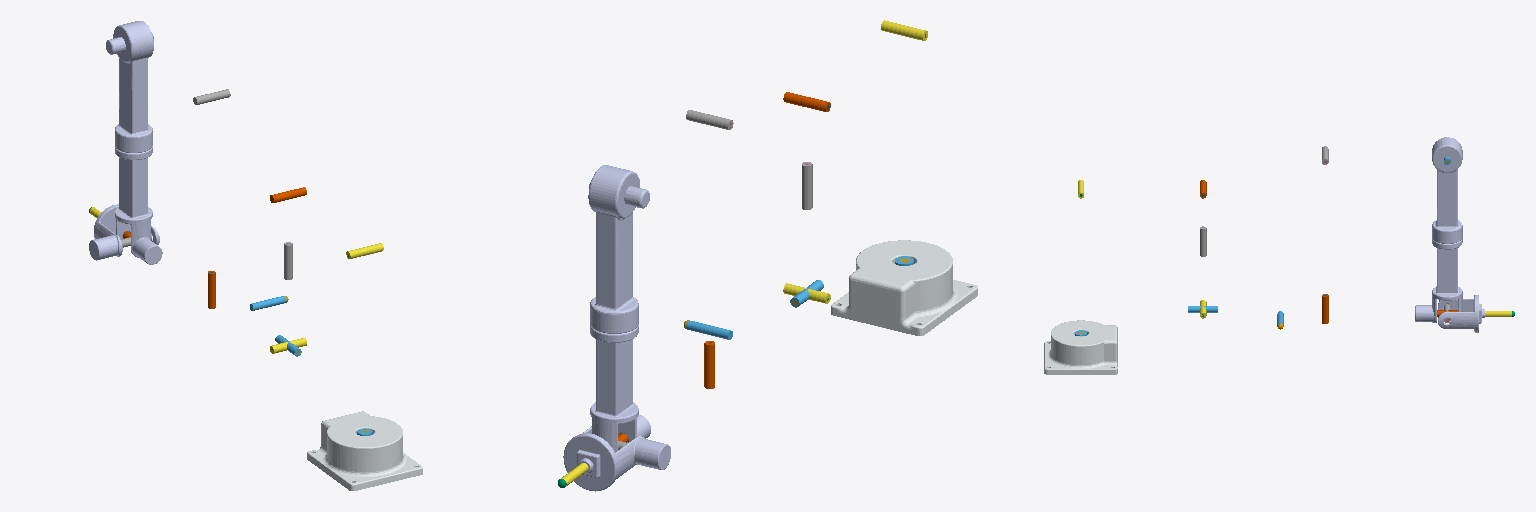
--- Render facts (derived) ---
Views: 3 orthographic renders of the robot side by side, from view 1: azimuth 30°, elevation 25°; view 2: azimuth 150°, elevation 25°; view 3: azimuth 270°, elevation 25°.
Model twelvedof_new with 44 links and 43 joints (12 continuous, 31 fixed), rooted at world, posed every joint at zero.
Links seen in each view (by area): view 1: base_link, link9, link10, link12; view 2: base_link, link9, link10, link12; view 3: base_link, link9, link10, link12.
Link boxes in pixels (bbox=[...]): base_link: bbox=[307, 411, 422, 490]; link9: bbox=[106, 21, 153, 152]; link10: bbox=[115, 146, 162, 264]; link12: bbox=[89, 204, 159, 260]; base_link: bbox=[831, 240, 977, 335]; link9: bbox=[588, 165, 649, 333]; link10: bbox=[590, 325, 650, 452]; link12: bbox=[563, 426, 670, 491]; base_link: bbox=[1044, 320, 1117, 374]; link9: bbox=[1432, 137, 1462, 243]; link10: bbox=[1415, 238, 1462, 322]; link12: bbox=[1438, 295, 1484, 332].
Size in the robot's own frame: 0.27 by 1.54 by 0.791 metres.
Meshes: 13 distinct files referenced, 4 mesh visuals loaded (4 binary STL); not drawn: 9 (reference not matched to a file when rendering).

URDF robot description (twelvedof_new):
<?xml version="1.0" encoding="utf-8"?>
<!-- This URDF was automatically created by SolidWorks to URDF Exporter! Originally created by Stephen Brawner ([email redacted]) 
     Commit Version: 1.6.0-1-g15f4949  Build Version: 1.6.7594.29634
     For more information, please see http://wiki.ros.org/sw_urdf_exporter -->
<robot name="twelvedof_new">
  
  <link name="world"/>
    
  <joint name="worldjoint" type="fixed">
    <origin xyz="0 0 0" rpy="0 0 1.5708" />
    <parent link="world" />
    <child link="base_link" />
    <dynamics damping="5.0"/>
  </joint>

<!-- FIRST HALF OF ARM -->
  
  <link name="base_link">
    <inertial>
      <origin xyz="0.00821319552843038 0.0455728269319283 -4.38949845875623E-09" rpy="0 0 0" />
      <mass value="10" />
      <inertia
        ixx="0.0143561878212777"
        ixy="-0.000435034350132057"
        ixz="1.30220493170942E-09"
        iyy="0.0253036434758205"
        iyz="2.05181848298011E-10"
        izz="0.017604652680288" />
    </inertial>
    <visual>
      <origin xyz="0 0 0" rpy="0 0 0" />
      <geometry>
        <mesh filename="package://project/meshes/base_link.STL" />
      </geometry>
      <material name="">
        <color rgba="0.898039215686275 0.92156862745098 0.929411764705882 1" />
      </material>
    </visual>
    <!--<collision>
      <origin xyz="0 0 0" rpy="0 0 0" />
      <geometry>
        <mesh filename="package://project/meshes/base_link.STL" />
      </geometry>
    </collision>-->
  </link>
  
  <joint name="theta1" type="continuous">
    <origin xyz="0 0 0.0499999999999999" rpy="1.5707963267949 0 -3.14159265358979" />
    <parent link="base_link" />
    <child link="link1" />
    <axis xyz="0 1 0" />
    <dynamics damping="5.0"/>
  </joint>  
  
  <link name="link1">
    <inertial>
      <origin xyz="-3.53356132704072E-08 0.354939281214782 0.00987047993841249" rpy="0 0 0" />
      <mass value="0.3" />
      <inertia
        ixx="0.280533282193697"
        ixy="2.88502865128486E-08"
        ixz="5.12746353903742E-09"
        iyy="0.0214809674041822"
        iyz="-0.0162186945928484"
        izz="0.281062502247758" />
    </inertial>
    <visual>
      <origin xyz="0 0 0" rpy="0 0 0" />
      <geometry>
        <mesh filename="package://project/meshes/link1.STL" />
      </geometry>
      <material name="">
        <color rgba="0.792156862745098 0.819607843137255 0.933333333333333 1" />
      </material>
    </visual>
    <!--<collision>
      <origin xyz="0 0 0" rpy="0 0 0" />
      <geometry>
        <mesh filename="package://project/meshes/link1.STL" />
      </geometry>
    </collision>-->
  </link>
  
  <joint name="theta2" type="continuous">
    <origin xyz="0 0.57 0" rpy="0 -1.5707963267949 0" />
    <parent link="link1" />
    <child link="link2" />
    <axis xyz="1 0 0" />
    <dynamics damping="4.0"/>
  </joint>
  
  <link name="link2">
    <inertial>
      <origin xyz="-0.0990439236457107 -1.71025542616832E-08 0.194379212104546" rpy="0 0 0" />
      <mass value="0.3" />
      <inertia
        ixx="0.128935545829528"
        ixy="-3.59276704863955E-09"
        ixz="0.00824538218148109"
        iyy="0.12959303076696"
        iyz="3.7662632051646E-08"
        izz="0.00894193356578435" />
    </inertial>
    <visual>
      <origin xyz="0 0 0" rpy="0 0 0" />
      <geometry>
        <mesh filename="package://project/meshes/link2.STL" />
      </geometry>
      <material name="">
        <color rgba="0.792156862745098 0.819607843137255 0.933333333333333 1" />
      </material>
    </visual>
    <!--<collision>
      <origin xyz="0 0 0" rpy="0 0 0" />
      <geometry>
        <mesh filename="package://project/meshes/link2.STL" />
      </geometry>
    </collision>-->
  </link>
    
  <joint name="theta3" type="continuous">
    <origin xyz="0 0 0.4" rpy="3.14159265358979 0 3.14159265358979" />
    <parent link="link2" />
    <child link="link3" />
    <axis xyz="1 0 0" />
    <dynamics damping="4.0"/>
  </joint>
  
  
  <link name="link3">
    <inertial>
      <origin xyz="0.00160037543312781 -0.085257338513779 -2.42632615110594E-07" rpy="0 0 0" />
      <mass value="0.3" />
      <inertia
        ixx="0.0152262508313679"
        ixy="-0.000252854197484628"
        ixz="-7.59437820571953E-09"
        iyy="0.00238432715240219"
        iyz="-6.63655998102174E-09"
        izz="0.0150750345051429" />
    </inertial>
    <visual>
      <origin xyz="0 0 0" rpy="0 0 0" />
      <geometry>
        <mesh filename="package://project/meshes/link3.STL" />
      </geometry>
      <material name="">
        <color rgba="0.792156862745098 0.819607843137255 0.933333333333333 1" />
      </material>
    </visual>
    <!--<collision>
      <origin xyz="0 0 0" rpy="0 0 0" />
      <geometry>
        <mesh filename="package://project/meshes/link3.STL" />
      </geometry>
    </collision>-->
  </link>
  
  <joint name="theta4" type="continuous">
    <origin xyz="0 -0.19 0" rpy="3.14159265358979 0 3.14159265358979" />
    <parent link="link3" />
    <child link="link4" />
    <axis xyz="0 1 0" />
    <dynamics damping="3.0"/>
  </joint>
  
  <link name="link4">
    <inertial>
      <origin xyz="-2.42302114083718E-05 -0.132883357266087 0.0106425170632316" rpy="0 3.14159265358979 0" />
      <mass value="0.2" />
      <inertia
        ixx="0.00652454443000916"
        ixy="-2.63113923987127E-06"
        ixz="1.4312330638641E-06"
        iyy="0.00162842387868455"
        iyz="0.00113452921322352"
        izz="0.00559173664508866" />
    </inertial>
    <visual>
      <origin xyz="0 0 0" rpy="0 3.14159265358979 0" />
      <geometry>
        <mesh filename="package://project/meshes/link4.STL" />
      </geometry>
      <material name="">
        <color rgba="0.792156862745098 0.819607843137255 0.933333333333333 1" />
      </material>
    </visual>
    <!--<collision>
      <origin xyz="0 0 0" rpy="0 3.14159265358979 0" />
      <geometry>
        <mesh filename="package://project/meshes/link4.STL" />
      </geometry>
    </collision>-->
  </link>
  
  <joint name="theta5" type="continuous">
    <origin xyz="0 -0.244 0" rpy="-1.5707963267949 0 3.14159265358979" />
    <parent link="link4" />
    <child link="link5" />
    <axis xyz="0 1 0" />
    <dynamics damping="3.0"/>
  </joint>
  
  <link name="link5">
    <inertial>
      <origin xyz="-8.59274472396303E-06 2.99480007459607E-09 -2.77555756156289E-17" rpy="0 0 0" />
      <mass
        value="0.2" />
      <inertia
        ixx="0.000268508912730322"
        ixy="-1.05404001827445E-14"
        ixz="2.8134907313249E-12"
        iyy="0.000445501225998283"
        iyz="-4.09234992736264E-12"
        izz="0.000491869576064115" />
    </inertial>
    <visual>
      <origin xyz="0 0 0" rpy="0 0 0" />
      <geometry>
        <mesh filename="package://project/meshes/link5.STL" />
      </geometry>
      <material name="">
        <color rgba="0.792156862745098 0.819607843137255 0.933333333333333 1" />
      </material>
    </visual>
    <!--<collision>
      <origin xyz="0 0 0" rpy="0 0 0" />
      <geometry>
        <mesh filename="package://project/meshes/link5.STL" />
      </geometry>
    </collision>-->
  </link>

  <joint name="theta6" type="continuous">
    <origin xyz="0 0 0" rpy="3.1416 -1.5708 0" />
    <parent link="link5" />
    <child link="link6" />
    <axis xyz="0 0 1" />
    <dynamics damping="3.0"/>
  </joint>

  <link name="link6">
    <inertial>
      <origin xyz="0.00520227831116674 0.273936626876202 -0.00509011096195712" rpy="0 0 0" />
      <mass
        value="0.2" />
      <inertia
        ixx="0.0522030439082721"
        ixy="-0.00158209475866237"
        ixz="-6.38836647121218E-05"
        iyy="0.00450482103345596"
        iyz="-0.00340305922390723"
        izz="0.0501774844868825" />
    </inertial>
    <visual>
      <origin xyz="0 0 0" rpy="0 0 0" />
      <geometry>
        <mesh filename="package://project/meshes/link6.STL" />
      </geometry>
      <material name="">
        <color rgba="0.792156862745098 0.819607843137255 0.933333333333333 1" />
      </material>
    </visual>
    <!--<collision>
      <origin xyz="0 0 0" rpy="0 0 0" />
      <geometry>
        <mesh filename="package://project/meshes/link6.STL" />
      </geometry>
    </collision>-->
  </link>

  <joint name="final1" type="fixed">
    <parent link="link6"/>
    <child  link="tip_elbow"/>
    <origin xyz="0 0.2535 0.135" rpy="1.5708 0 -1.5708"/>
  </joint>

  <link name="tip_elbow"/>
  
 
 <!-- SECOND HALF OF ARM -->

  <joint name="theta7" type="continuous">
    <origin xyz="0 0.4 0" rpy="1.5707963267949 -1.5707963267949 0" />
    <parent link="link6" />
    <child link="link7" />
    <axis xyz="0 1 0" />
    <dynamics damping="2.0"/>
  </joint>

  <link name="link7">
    <inertial>
      <origin xyz="0.00477228657845705 0.337400616275791 6.70715527562038E-09" rpy="0 0 0" />
      <mass
        value="0.2" />
      <inertia
        ixx="0.120977117963601"
        ixy="-0.00358173551662174"
        ixz="-1.92392938248504E-09"
        iyy="0.00427523422420143"
        iyz="-2.98092198286552E-09"
        izz="0.120860768990603" />
    </inertial>
    <visual>
      <origin xyz="0 0 0" rpy="0 0 0" />
      <geometry>
        <mesh filename="package://project/meshes/link7.STL" />
      </geometry>
      <material name="">
        <color rgba="0.792156862745098 0.819607843137255 0.933333333333333 1" />
      </material>
    </visual>
    <!--<collision>
      <origin xyz="0 0 0" rpy="0 0 0" />
      <geometry>
        <mesh filename="package://project/meshes/link7.STL" />
      </geometry>
    </collision>-->
  </link>

  <joint name="theta8" type="continuous">
    <origin xyz="0 0.555 0" rpy="0 0 3.14159265358979" />
    <parent link="link7" />
    <child link="link8" />
    <axis xyz="1 0 0" />
    <dynamics damping="1.0"/>
  </joint>
  
  <link name="link8">
    <inertial>
      <origin xyz="0.0878747586523721 -1.43544612862812E-08 -0.224736317123778" rpy="0 0 0" />
      <mass
        value="0.1" />
      <inertia
        ixx="0.0796551330078775"
        ixy="5.6504092407821E-09"
        ixz="0.00748044758508915"
        iyy="0.0813191685089296"
        iyz="5.4244447681561E-09"
        izz="0.00490675543598511" />
    </inertial>
    <visual>
      <origin xyz="0 0 0" rpy="0 0 0" />
      <geometry>
        <mesh filename="package://project/meshes/link8.STL" />
      </geometry>
      <material name="">
        <color rgba="0.792156862745098 0.819607843137255 0.933333333333333 1" />
      </material>
    </visual>
    <!--<collision>
      <origin xyz="0 0 0" rpy="0 0 0" />
      <geometry>
        <mesh filename="package://project/meshes/link8.STL" />
      </geometry>
    </collision>-->
  </link>

  <joint name="theta9" type="continuous">
    <origin xyz="0 0 -0.4" rpy="-3.14159263868864 0 0" />
    <parent link="link8" />
    <child link="link9" />
    <axis xyz="1 0 0" />
    <dynamics damping="2.0"/>
  </joint>


  <link name="link9">
    <inertial>
      <origin xyz="0.00664825369162243 -0.120416195839299 -2.48880200892643E-07" rpy="0 0 0" />
      <mass
        value="0.1" />
      <inertia
        ixx="0.0114050795265076"
        ixy="-0.0002365697800322"
        ixz="-3.38034585685076E-09"
        iyy="0.00148310827639032"
        iyz="-3.64333100183754E-09"
        izz="0.0113333864819022" />
    </inertial>
    <visual>
      <origin xyz="0 0 0" rpy="0 0 0" />
      <geometry>
        <mesh filename="package://project/meshes/link9.STL" />
      </geometry>
      <material name="">
        <color rgba="0.792156862745098 0.819607843137255 0.933333333333333 1" />
      </material>
    </visual>
    <!--<collision>
      <origin xyz="0 0 0" rpy="0 0 0" />
      <geometry>
        <mesh filename="package://project/meshes/link9.STL" />
      </geometry>
    </collision>-->
  </link>

  <joint name="theta10" type="continuous">
    <origin xyz="0.005 -0.26 0" rpy="3.14159265358979 0 3.14159265358979" />
    <parent link="link9" />
    <child link="link10" />
    <axis xyz="0 1 0" />
    <dynamics damping="1.0"/>
  </joint>

  <link name="link10">
    <inertial>
      <origin xyz="-1.98334295971603E-05 -0.170343324915273 0.00871952863819403" rpy="0 0 0" />
      <mass
        value="0.1" />
      <inertia
        ixx="0.00624074124214675"
        ixy="-2.56275777992662E-06"
        ixz="1.42191262724024E-06"
        iyy="0.00153442214771151"
        iyz="0.00110450946529512"
        izz="0.00531178670708837" />
    </inertial>
    <visual>
      <origin xyz="0 0 0" rpy="0 0 0" />
      <geometry>
        <mesh filename="package://project/meshes/link10.STL" />
      </geometry>
      <material name="">
        <color rgba="0.792156862745098 0.819607843137255 0.933333333333333 1" />
      </material>
    </visual>
    <!--<collision>
      <origin xyz="0 0 0" rpy="0 0 0" />
      <geometry>
        <mesh filename="package://project/meshes/link10.STL" />
      </geometry>
    </collision>-->
  </link>

  <joint name="theta11" type="continuous">
    <origin xyz="0 -0.314 0" rpy="-1.5707963267949 0 3.14159265358979" />
    <parent link="link10" />
    <child link="link11" />
    <axis xyz="0 1 0" />
    <dynamics damping="1.0"/>
  </joint>

  <link name="link11">
    <inertial>
      <origin xyz="-8.5927447239665E-06 -2.99480018561837E-09 0" rpy="0 0 0" />
      <mass
        value="0.1" />
      <inertia
        ixx="0.000268508912730321"
        ixy="1.05404015773174E-14"
        ixz="-2.81349071030043E-12"
        iyy="0.000445501225998283"
        iyz="-4.09234984570201E-12"
        izz="0.000491869576064114" />
    </inertial>
    <visual>
      <origin xyz="0 0 0" rpy="0 0 0" />
      <geometry>
        <mesh filename="package://project/meshes/link11.STL" />
      </geometry>
      <material name="">
        <color rgba="0.792156862745098 0.819607843137255 0.933333333333333 1" />
      </material>
    </visual>
    <!--<collision>
      <origin xyz="0 0 0" rpy="0 0 0" />
      <geometry>
        <mesh filename="package://project/meshes/link11.STL" />
      </geometry>
    </collision>-->
  </link>

  <joint name="theta12" type="continuous">
    <origin xyz="0 0 0" rpy="0 1.5707963267949 0" />
    <parent link="link11" />
    <child link="link12" />
    <axis xyz="0 0 1" />
    <dynamics damping="1.0"/>
  </joint>

  <link name="link12">
    <inertial>
      <origin xyz="-2.44598371168525E-07 0.0871817473729875 0.0178255025763769" rpy="0 0 0" />
      <mass
        value="0.1" />
      <inertia
        ixx="0.00449686744365017"
        ixy="-5.41238637157819E-09"
        ixz="3.66408930129254E-09"
        iyy="0.00184883163621398"
        iyz="0.00108407821056809"
        izz="0.00322066196867968" />
    </inertial>
    <visual>
      <origin xyz="0 0 0" rpy="0 0 0" />
      <geometry>
        <mesh filename="package://project/meshes/link12.STL" />
      </geometry>
      <material name="">
        <color rgba="0.792156862745098 0.819607843137255 0.933333333333333 1" />
      </material>
    </visual>
    <!--<collision>
      <origin xyz="0 0 0" rpy="0 0 0" />
      <geometry>
        <mesh filename="package://project/meshes/link12.STL" />
      </geometry>
    </collision>-->
  </link>

  <joint name="final2" type="fixed">
    <parent link="link12"/>
    <child  link="tip_full"/>
    <origin xyz="0 0.2135 0" rpy="0 -1.5708 0"/>
  </joint>

  <link name="tip_full"/>













  <!-- *************************************************** -->
  <!-- ****** Building Blocks (Visual AND Inertial) ****** -->
  <!-- *************************************************** -->

  <!-- *** base_link-Fixed: Mount 1, Motor 1 *** -->

  <joint name="attach-mount1" type="fixed">
    <parent link="base_link"/>
    <child  link="mount1"/>
  </joint>
  <link name="mount1">
    <visual>
      <origin xyz="0 0 0.05" rpy="0 0 0"/>
      <geometry>
  <cylinder length="0.1" radius="0.011"/>
      </geometry>
      <material name="black"/>
    </visual>
    <collision>
      <origin xyz="0 0 0.05" rpy="0 0 0"/>
      <geometry>
  <cylinder length="0.1" radius="0.011"/>
      </geometry>
    </collision>
    <inertial>
      <origin xyz="0 0 0.05" rpy="0 0 0"/>
      <mass value="0.2"/>
      <inertia
        ixx="0.000687" ixy="0.0" ixz="0.0"
        iyy="0.000687" iyz="0.0"
        izz="1.000040"/>
    </inertial>
  </link>

  <joint name="attach-motor1" type="fixed">
    <parent link="base_link"/>
    <child  link="motor1"/>
  </joint>
  <link name="motor1">
    <visual>
      <origin xyz="0 0 0.05" rpy="0 0 0"/>
      <geometry>
  <cylinder length="0.1" radius="0.02"/>
      </geometry>
      <material name="gray"/>
    </visual>
    <collision>
      <origin xyz="0 0 0.05" rpy="0 0 0"/>
      <geometry>
  <cylinder length="0.1" radius="0.02"/>
      </geometry>
    </collision>
    <inertial>
      <origin xyz="0 0 0.05" rpy="0 0 0"/>
      <mass value="0.4"/>
      <inertia
        ixx="0.500990" ixy="0.0" ixz="0.0"
        iyy="0.000990" iyz="0.0"
        izz="0.000313"/>
    </inertial>
  </link>


  <!-- *** Motor 1 Output: Mount 2, Motor 2 *** -->

  <joint name="attach-mount2" type="fixed">
    <parent link="link1"/>
    <child  link="mount2"/>
  </joint>
  <link name="mount2">
    <visual>
      <origin xyz="0 0.57 0" rpy="0 0 -1.5708"/>
      <geometry>
  <cylinder length="0.1" radius="0.005"/>
      </geometry>
      <material name="black"/>
    </visual>
    <collision>
      <origin xyz="0 0.57 0" rpy="0 0 -1.5708"/>
      <geometry>
  <cylinder length="0.1" radius="0.005"/>
      </geometry>
    </collision>
    <inertial>
      <origin xyz="0 0.57 0" rpy="0 0 -1.5708"/>
      <mass value="0.2"/>
      <inertia
        ixx="0.000687" ixy="0.0" ixz="0.0"
        iyy="0.000687" iyz="0.0"
        izz="1.000040"/>
    </inertial>
  </link>

  <joint name="attach-motor2" type="fixed">
    <parent link="link1"/>
    <child  link="motor2"/>
  </joint>
  <link name="motor2">
    <visual>
      <origin xyz="0 0.57 0" rpy="0 0 -1.5708"/>
      <geometry>
  <cylinder length="0.1" radius="0.011"/>
      </geometry>
      <material name="gray"/>
    </visual>
    <collision>
      <origin xyz="0 0.57 0" rpy="0 0 -1.5708"/>
      <geometry>
  <cylinder length="0.1" radius="0.011"/>
      </geometry>
    </collision>
    <inertial>
      <origin xyz="0 0.57 0" rpy="0 0 -1.5708"/>
      <mass value="0.4"/>
      <inertia
        ixx="0.500990" ixy="0.0" ixz="0.0"
        iyy="0.000990" iyz="0.0"
        izz="0.000313"/>
    </inertial>
  </link>


  <!-- *** Motor 2 Output: Mount 3, Motor 3 *** -->

  <joint name="attach-mount3" type="fixed">
    <parent link="link2"/>
    <child  link="mount3"/>
  </joint>
  <link name="mount3">
    <visual>
      <origin xyz="0 0 0.4" rpy="0 -1.5708 0"/>
      <geometry>
  <cylinder length="0.1" radius="0.005"/>
      </geometry>
      <material name="black"/>
    </visual>
    <collision>
      <origin xyz="0 0 0.4" rpy="0 -1.5708 0"/>
      <geometry>
  <cylinder length="0.1" radius="0.005"/>
      </geometry>
    </collision>
    <inertial>
      <origin xyz="0 0 0.4" rpy="0 -1.5708 0"/>
      <mass value="0.2"/>
      <inertia
        ixx="0.000687" ixy="0.0" ixz="0.0"
        iyy="0.000687" iyz="0.0"
        izz="1.000040"/>
    </inertial>
  </link>

  <joint name="attach-motor3" type="fixed">
    <parent link="link2"/>
    <child  link="motor3"/>
  </joint>
  <link name="motor3">
    <visual>
      <origin xyz="0 0 0.4" rpy="0 -1.5708 0"/>
      <geometry>
  <cylinder length="0.1" radius="0.011"/>
      </geometry>
      <material name="gray"/>
    </visual>
    <collision>
      <origin xyz="0 0 0.4" rpy="0 -1.5708 0"/>
      <geometry>
  <cylinder length="0.1" radius="0.011"/>
      </geometry>
    </collision>
    <inertial>
      <origin xyz="0 0 0.4" rpy="0 -1.5708 0"/>
      <mass value="0.4"/>
      <inertia
        ixx="0.500990" ixy="0.0" ixz="0.0"
        iyy="0.000990" iyz="0.0"
        izz="0.000313"/>
    </inertial>
  </link>


  <!-- *** Motor 3 Output: Mount 4, Motor 4 *** -->

  <joint name="attach-mount4" type="fixed">
    <parent link="link3"/>
    <child  link="mount4"/>
  </joint>
  <link name="mount4">
    <visual>
      <origin xyz="0 -0.19 0" rpy="-1.5708 0 0"/>
      <geometry>
  <cylinder length="0.1" radius="0.005"/>
      </geometry>
      <material name="black"/>
    </visual>
    <collision>
      <origin xyz="0 -0.19 0" rpy="-1.5708 0 0"/>
      <geometry>
  <cylinder length="0.1" radius="0.005"/>
      </geometry>
    </collision>
    <inertial>
      <origin xyz="0 -0.19 0" rpy="-1.5708 0 0"/>
      <mass value="0.2"/>
      <inertia
        ixx="0.000687" ixy="0.0" ixz="0.0"
        iyy="0.000687" iyz="0.0"
        izz="1.000040"/>
    </inertial>
  </link>

  <joint name="attach-motor4" type="fixed">
    <parent link="link3"/>
    <child  link="motor4"/>
  </joint>
  <link name="motor4">
    <visual>
      <origin xyz="0 -0.19 0" rpy="-1.5708 0 0"/>
      <geometry>
  <cylinder length="0.1" radius="0.011"/>
      </geometry>
      <material name="gray"/>
    </visual>
    <collision>
      <origin xyz="0 -0.19 0" rpy="-1.5708 0 0"/>
      <geometry>
  <cylinder length="0.1" radius="0.011"/>
      </geometry>
    </collision>
    <inertial>
      <origin xyz="0 -0.19 0" rpy="-1.5708 0 0"/>
      <mass value="1.5"/>
      <inertia
        ixx="0.500990" ixy="0.0" ixz="0.0"
        iyy="0.000990" iyz="0.0"
        izz="0.000313"/>
    </inertial>
  </link>


  <!-- *** Motor 4 Output: Mount 5, Motor 5 *** -->

  <joint name="attach-mount5" type="fixed">
    <parent link="link4"/>
    <child  link="mount5"/>
  </joint>
  <link name="mount5">
    <visual>
      <origin xyz="0 -0.244 0" rpy="0 0 -1.5708"/>
      <geometry>
  <cylinder length="0.1" radius="0.005"/>
      </geometry>
      <material name="black"/>
    </visual>
    <collision>
      <origin xyz="0 -0.244 0" rpy="0 0 -1.5708"/>
      <geometry>
  <cylinder length="0.1" radius="0.005"/>
      </geometry>
    </collision>
    <inertial>
      <origin xyz="0 -0.244 0" rpy="0 0 -1.5708"/>
      <mass value="0.2"/>
      <inertia
        ixx="0.000687" ixy="0.0" ixz="0.0"
        iyy="0.000687" iyz="0.0"
        izz="1.000040"/>
    </inertial>
  </link>

  <joint name="attach-motor5" type="fixed">
    <parent link="link4"/>
    <child  link="motor5"/>
  </joint>
  <link name="motor5">
    <visual>
      <origin xyz="0 -0.244 0" rpy="0 0 -1.5708"/>
      <geometry>
  <cylinder length="0.1" radius="0.011"/>
      </geometry>
      <material name="gray"/>
    </visual>
    <collision>
      <origin xyz="0 -0.244 0" rpy="0 0 -1.5708"/>
      <geometry>
  <cylinder length="0.1" radius="0.011"/>
      </geometry>
    </collision>
    <inertial>
      <origin xyz="0 -0.244 0" rpy="0 0 -1.5708"/>
      <mass value="1.5"/>
      <inertia
        ixx="0.500990" ixy="0.0" ixz="0.0"
        iyy="0.000990" iyz="0.0"
        izz="0.000313"/>
    </inertial>
  </link>


  <!-- *** Motor 5 Output: Mount 6, Motor 6 *** -->

  <joint name="attach-mount6" type="fixed">
    <parent link="link5"/>
    <child  link="mount6"/>
  </joint>
  <link name="mount6">
    <visual>
      <origin xyz="0 0 0" rpy="3.1416 -1.5708 0"/>
      <geometry>
  <cylinder length="0.1" radius="0.005"/>
      </geometry>
      <material name="black"/>
    </visual>
    <collision>
      <origin xyz="0 0 0" rpy="3.1416 -1.5708 0"/>
      <geometry>
  <cylinder length="0.1" radius="0.005"/>
      </geometry>
    </collision>
    <inertial>
      <origin xyz="0 0 0" rpy="3.1416 -1.5708 0"/>
      <mass value="0.2"/>
      <inertia
        ixx="0.000687" ixy="0.0" ixz="0.0"
        iyy="0.000687" iyz="0.0"
        izz="1.000040"/>
    </inertial>
  </link>

  <joint name="attach-motor6" type="fixed">
    <parent link="link5"/>
    <child  link="motor6"/>
  </joint>
  <link name="motor6">
    <visual>
      <origin xyz="0 0 0" rpy="3.1416 -1.5708 0"/>
      <geometry>
  <cylinder length="0.1" radius="0.011"/>
      </geometry>
      <material name="gray"/>
    </visual>
    <collision>
      <origin xyz="0 0 0" rpy="3.1416 -1.5708 0"/>
      <geometry>
  <cylinder length="0.1" radius="0.011"/>
      </geometry>
    </collision>
    <inertial>
      <origin xyz="0 0 0" rpy="3.1416 -1.5708 0"/>
      <mass value="1.5"/>
      <inertia
        ixx="0.500990" ixy="0.0" ixz="0.0"
        iyy="0.000990" iyz="0.0"
        izz="0.000313"/>
    </inertial>
  </link>


  <!-- *** Motor 6 Output: Mount 7, Motor 7 *** -->

  <joint name="attach-mount7" type="fixed">
    <parent link="link6"/>
    <child  link="mount7"/>
  </joint>
  <link name="mount7">
    <visual>
      <origin xyz="0 0.4 0" rpy="0 1.5708 0"/>
      <geometry>
  <cylinder length="0.1" radius="0.005"/>
      </geometry>
      <material name="black"/>
    </visual>
    <collision>
      <origin xyz="0 0.4 0" rpy="0 1.5708 0"/>
      <geometry>
  <cylinder length="0.1" radius="0.005"/>
      </geometry>
    </collision>
    <inertial>
      <origin xyz="0 0.4 0" rpy="0 1.5708 0"/>
      <mass value="0.2"/>
      <inertia
        ixx="0.000687" ixy="0.0" ixz="0.0"
        iyy="0.000687" iyz="0.0"
        izz="1.000040"/>
    </inertial>
  </link>

  <joint name="attach-motor7" type="fixed">
    <parent link="link6"/>
    <child  link="motor7"/>
  </joint>
  <link name="motor7">
    <visual>
      <origin xyz="0 0.4 0" rpy="0 1.5708 0"/>
      <geometry>
  <cylinder length="0.1" radius="0.011"/>
      </geometry>
      <material name="gray"/>
    </visual>
    <collision>
      <origin xyz="0 0.4 0" rpy="0 1.5708 0"/>
      <geometry>
  <cylinder length="0.1" radius="0.011"/>
      </geometry>
    </collision>
    <inertial>
      <origin xyz="0 0.4 0" rpy="0 1.5708 0"/>
      <mass value="1.5"/>
      <inertia
        ixx="0.500990" ixy="0.0" ixz="0.0"
        iyy="0.000990" iyz="0.0"
        izz="0.000313"/>
    </inertial>
  </link>


  <!-- *** Motor 7 Output: Mount 8, Motor 8 *** -->

  <joint name="attach-mount8" type="fixed">
    <parent link="link7"/>
    <child  link="mount8"/>
  </joint>
  <link name="mount8">
    <visual>
      <origin xyz="0 0.555 0" rpy="0 1.5708 0"/>
      <geometry>
  <cylinder length="0.1" radius="0.005"/>
      </geometry>
      <material name="black"/>
    </visual>
    <collision>
      <origin xyz="0 0.555 0" rpy="0 1.5708 0"/>
      <geometry>
  <cylinder length="0.1" radius="0.005"/>
      </geometry>
    </collision>
    <inertial>
      <origin xyz="0 0.555 0" rpy="0 1.5708 0"/>
      <mass value="0.2"/>
      <inertia
        ixx="0.000687" ixy="0.0" ixz="0.0"
        iyy="0.000687" iyz="0.0"
        izz="1.000040"/>
    </inertial>
  </link>

  <joint name="attach-motor8" type="fixed">
    <parent link="link7"/>
    <child  link="motor8"/>
  </joint>
  <link name="motor8">
    <visual>
      <origin xyz="0 0.555 0" rpy="0 1.5708 0"/>
      <geometry>
  <cylinder length="0.1" radius="0.011"/>
      </geometry>
      <material name="gray"/>
    </visual>
    <collision>
      <origin xyz="0 0.555 0" rpy="0 1.5708 0"/>
      <geometry>
  <cylinder length="0.1" radius="0.011"/>
      </geometry>
    </collision>
    <inertial>
      <origin xyz="0 0.555 0" rpy="0 1.5708 0"/>
      <mass value="1.0"/>
      <inertia
        ixx="0.500990" ixy="0.0" ixz="0.0"
        iyy="0.000990" iyz="0.0"
        izz="0.000313"/>
    </inertial>
  </link>


  <!-- *** Motor 8 Output: Mount 9, Motor 9 *** -->

  <joint name="attach-mount9" type="fixed">
    <parent link="link8"/>
    <child  link="mount9"/>
  </joint>
  <link name="mount9">
    <visual>
      <origin xyz="0 0 -0.4" rpy="0 -1.5708 0"/>
      <geometry>
  <cylinder length="0.1" radius="0.005"/>
      </geometry>
      <material name="black"/>
    </visual>
    <collision>
      <origin xyz="0 0 -0.4" rpy="0 -1.5708 0"/>
      <geometry>
  <cylinder length="0.1" radius="0.005"/>
      </geometry>
    </collision>
    <inertial>
      <origin xyz="0 0 -0.4" rpy="0 -1.5708 0"/>
      <mass value="0.2"/>
      <inertia
        ixx="0.000687" ixy="0.0" ixz="0.0"
        iyy="0.000687" iyz="0.0"
        izz="1.000040"/>
    </inertial>
  </link>

  <joint name="attach-motor9" type="fixed">
    <parent link="link8"/>
    <child  link="motor9"/>
  </joint>
  <link name="motor9">
    <visual>
      <origin xyz="0 0 -0.4" rpy="0 -1.5708 0"/>
      <geometry>
  <cylinder length="0.1" radius="0.011"/>
      </geometry>
      <material name="gray"/>
    </visual>
    <collision>
      <origin xyz="0.005 0 -0.4" rpy="0 -1.5708 0"/>
      <geometry>
  <cylinder length="0.1" radius="0.011"/>
      </geometry>
    </collision>
    <inertial>
      <origin xyz="0 0 -0.4" rpy="0 -1.5708 0"/>
      <mass value="1.0"/>
      <inertia
        ixx="0.500990" ixy="0.0" ixz="0.0"
        iyy="0.000990" iyz="0.0"
        izz="0.000313"/>
    </inertial>
  </link>


  <!-- *** Motor 9 Output: Mount 10, Motor 10 *** -->

  <joint name="attach-mount10" type="fixed">
    <parent link="link9"/>
    <child  link="mount10"/>
  </joint>
  <link name="mount10">
    <visual>
      <origin xyz="0.005 -0.26 0" rpy="-1.5708 0 0"/>
      <geometry>
  <cylinder length="0.1" radius="0.005"/>
      </geometry>
      <material name="black"/>
    </visual>
    <collision>
      <origin xyz="0.005 -0.26 0" rpy="-1.5708 0 0"/>
      <geometry>
  <cylinder length="0.1" radius="0.005"/>
      </geometry>
    </collision>
    <inertial>
      <origin xyz="0.005 -0.26 0" rpy="-1.5708 0 0"/>
      <mass value="0.2"/>
      <inertia
        ixx="0.000687" ixy="0.0" ixz="0.0"
        iyy="0.000687" iyz="0.0"
        izz="1.000040"/>
    </inertial>
  </link>

  <joint name="attach-motor10" type="fixed">
    <parent link="link9"/>
    <child  link="motor10"/>
  </joint>
  <link name="motor10">
    <visual>
      <origin xyz="0.005 -0.26 0" rpy="-1.5708 0 0"/>
      <geometry>
  <cylinder length="0.1" radius="0.011"/>
      </geometry>
      <material name="gray"/>
    </visual>
    <collision>
      <origin xyz="0.005 -0.26 0" rpy="-1.5708 0 0"/>
      <geometry>
  <cylinder length="0.1" radius="0.011"/>
      </geometry>
    </collision>
    <inertial>
      <origin xyz="0.005 -0.26 0" rpy="-1.5708 0 0"/>
      <mass value="1.0"/>
      <inertia
        ixx="0.500990" ixy="0.0" ixz="0.0"
        iyy="0.000990" iyz="0.0"
        izz="0.000313"/>
    </inertial>
  </link>


  <!-- *** Motor 10 Output: Mount 11, Motor 11 *** -->

  <joint name="attach-mount11" type="fixed">
    <parent link="link10"/>
    <child  link="mount11"/>
  </joint>
  <link name="mount11">
    <visual>
      <origin xyz="0 -0.314 0" rpy="0 0 -1.5708"/>
      <geometry>
  <cylinder length="0.1" radius="0.005"/>
      </geometry>
      <material name="black"/>
    </visual>
    <collision>
      <origin xyz="0 -0.314 0" rpy="0 0 -1.5708"/>
      <geometry>
  <cylinder length="0.1" radius="0.005"/>
      </geometry>
    </collision>
    <inertial>
      <origin xyz="0 -0.314 0" rpy="0 0 -1.5708"/>
      <mass value="0.2"/>
      <inertia
        ixx="0.000687" ixy="0.0" ixz="0.0"
        iyy="0.000687" iyz="0.0"
        izz="1.000040"/>
    </inertial>
  </link>

  <joint name="attach-motor11" type="fixed">
    <parent link="link10"/>
    <child  link="motor11"/>
  </joint>
  <link name="motor11">
    <visual>
      <origin xyz="0 -0.314 0" rpy="0 0 -1.5708"/>
      <geometry>
  <cylinder length="0.1" radius="0.011"/>
      </geometry>
      <material name="gray"/>
    </visual>
    <collision>
      <origin xyz="0 -0.314 0" rpy="0 0 -1.5708"/>
      <geometry>
  <cylinder length="0.1" radius="0.011"/>
      </geometry>
    </collision>
    <inertial>
      <origin xyz="0 -0.314 0" rpy="0 0 -1.5708"/>
      <mass value="1.0"/>
      <inertia
        ixx="0.500990" ixy="0.0" ixz="0.0"
        iyy="0.000990" iyz="0.0"
        izz="0.000313"/>
    </inertial>
  </link>


  <!-- *** Motor 11 Output: Mount 12, Motor 12 *** -->

  <joint name="attach-mount12" type="fixed">
    <parent link="link11"/>
    <child  link="mount12"/>
  </joint>
  <link name="mount12">
    <visual>
      <origin xyz="0 0 0" rpy="3.1416 -1.5708 0"/>
      <geometry>
  <cylinder length="0.1" radius="0.005"/>
      </geometry>
      <material name="black"/>
    </visual>
    <collision>
      <origin xyz="0 0 0" rpy="3.1416 -1.5708 0"/>
      <geometry>
  <cylinder length="0.1" radius="0.005"/>
      </geometry>
    </collision>
    <inertial>
      <origin xyz="0 0 0" rpy="3.1416 -1.5708 0"/>
      <mass value="0.2"/>
      <inertia
        ixx="0.000687" ixy="0.0" ixz="0.0"
        iyy="0.000687" iyz="0.0"
        izz="1.000040"/>
    </inertial>
  </link>

  <joint name="attach-motor12" type="fixed">
    <parent link="link11"/>
    <child  link="motor12"/>
  </joint>
  <link name="motor12">
    <visual>
      <origin xyz="0 0 0" rpy="3.1416 -1.5708 0"/>
      <geometry>
  <cylinder length="0.1" radius="0.011"/>
      </geometry>
      <material name="gray"/>
    </visual>
    <collision>
      <origin xyz="0 0 0" rpy="3.1416 -1.5708 0"/>
      <geometry>
  <cylinder length="0.1" radius="0.011"/>
      </geometry>
    </collision>
    <inertial>
      <origin xyz="0 0 0" rpy="3.1416 -1.5708 0"/>
      <mass value="1.0"/>
      <inertia
        ixx="0.500990" ixy="0.0" ixz="0.0"
        iyy="0.000990" iyz="0.0"
        izz="0.000313"/>
    </inertial>
  </link>



  <!-- *** Motor 6 Output: Sphere1 *** -->

  <joint name="attach-sphere" type="fixed">
    <parent link="tip_elbow"/>
    <child  link="sphere"/>
  </joint>
  <link name="sphere">
    <visual>
      <origin xyz="0 0 0" rpy="0 0 0"/>
      <geometry>
	      <sphere radius="0.01"/>
      </geometry>
      <material name="green"/>
    </visual>
    <collision>
      <origin xyz="0 0 0" rpy="0 0 0"/>
      <geometry>
	      <sphere radius="0.01"/>
      </geometry>
      <material name="green"/>
    </collision>
    <inertial>
      <origin xyz="0 0 0" rpy="0 0 0"/>
      <mass value="0.01"/>
      <inertia
        ixx="0.01" ixy="0.0" ixz="0.0"
        iyy="0.01" iyz="0.0"
        izz="0.01"/>
    </inertial>
  </link>

  <joint name="attach-cylinder" type="fixed">
    <parent link="tip_elbow"/>
    <child  link="cylinder"/>
  </joint>
  <link name="cylinder">
    <visual>
      <origin xyz="0 -0.05 0" rpy="1.5708 0 0"/>
      <geometry>
	      <cylinder length="0.1" radius="0.01"/>
      </geometry>
      <material name="gray"/>
    </visual>
    <collision>
      <origin xyz="0 -0.05 0" rpy="1.5708 0 0"/>
      <geometry>
	      <cylinder length="0.1" radius="0.01"/>
      </geometry>
    </collision>
    <inertial>
      <origin xyz="0 -0.05 0" rpy="1.5708 0 0"/>
      <mass value="0.01"/>
      <inertia
        ixx="0.500990" ixy="0.0" ixz="0.0"
        iyy="0.000990" iyz="0.0"
        izz="0.000313"/>
    </inertial>
  </link>

  <!-- *** Motor 12 Output: Sphere2 *** -->

  <joint name="attach-sphere2" type="fixed">
    <parent link="tip_full"/>
    <child  link="sphere2"/>
  </joint>
  <link name="sphere2">
    <visual>
      <origin xyz="0 0 0" rpy="0 0 0"/>
      <geometry>
	      <sphere radius="0.01"/>
      </geometry>
      <material name="green"/>
    </visual>
    <collision>
      <origin xyz="0 0 0" rpy="0 0 0"/>
      <geometry>
	      <sphere radius="0.01"/>
      </geometry>
      <material name="green"/>
    </collision>
    <inertial>
      <origin xyz="0 0 0" rpy="0 0 0"/>
      <mass value="0.01"/>
      <inertia
        ixx="0.01" ixy="0.0" ixz="0.0"
        iyy="0.01" iyz="0.0"
        izz="0.01"/>
    </inertial>
  </link>

  <joint name="attach-cylinder2" type="fixed">
    <parent link="tip_full"/>
    <child  link="cylinder2"/>
  </joint>
  <link name="cylinder2">
    <visual>
      <origin xyz="0 -0.05 0" rpy="1.5708 0 0"/>
      <geometry>
	      <cylinder length="0.1" radius="0.01"/>
      </geometry>
      <material name="gray"/>
    </visual>
    <collision>
      <origin xyz="0 -0.05 0" rpy="1.5708 0 0"/>
      <geometry>
	      <cylinder length="0.1" radius="0.01"/>
      </geometry>
    </collision>
    <inertial>
      <origin xyz="0 -0.05 0" rpy="1.5708 0 0"/>
      <mass value="0.1"/>
      <inertia
        ixx="0.500990" ixy="0.0" ixz="0.0"
        iyy="0.000990" iyz="0.0"
        izz="0.000313"/>
    </inertial>
  </link>



  <!-- *************************************************** -->
  <!-- ******************* Gazebo Colors ***************** -->
  <!-- *************************************************** -->

  <gazebo reference="motor1"> <material>Gazebo/Gray</material>  </gazebo>
  <gazebo reference="motor2"> <material>Gazebo/Gray</material>  </gazebo>
  <gazebo reference="motor3"> <material>Gazebo/Gray</material>  </gazebo>
  <gazebo reference="motor4"> <material>Gazebo/Gray</material>  </gazebo>
  <gazebo reference="motor5"> <material>Gazebo/Gray</material>  </gazebo>
  <gazebo reference="motor6"> <material>Gazebo/Gray</material>  </gazebo>
  <gazebo reference="motor7"> <material>Gazebo/Gray</material>  </gazebo>
  <gazebo reference="motor8"> <material>Gazebo/Gray</material>  </gazebo>
  <gazebo reference="motor9"> <material>Gazebo/Gray</material>  </gazebo>
  <gazebo reference="motor10"> <material>Gazebo/Gray</material>  </gazebo>
  <gazebo reference="motor11"> <material>Gazebo/Gray</material>  </gazebo>
  <gazebo reference="motor12"> <material>Gazebo/Gray</material>  </gazebo>

  <gazebo reference="mount1">   <material>Gazebo/Black</material> </gazebo>
  <gazebo reference="mount2">   <material>Gazebo/Black</material> </gazebo>
  <gazebo reference="mount3">   <material>Gazebo/Black</material> </gazebo>
  <gazebo reference="mount4">   <material>Gazebo/Black</material> </gazebo>
  <gazebo reference="mount5">   <material>Gazebo/Black</material> </gazebo>
  <gazebo reference="mount6">   <material>Gazebo/Black</material> </gazebo>
  <gazebo reference="mount7">   <material>Gazebo/Black</material> </gazebo>
  <gazebo reference="mount8">   <material>Gazebo/Black</material> </gazebo>
  <gazebo reference="mount9">   <material>Gazebo/Black</material> </gazebo>
  <gazebo reference="mount10">   <material>Gazebo/Black</material> </gazebo>
  <gazebo reference="mount11">   <material>Gazebo/Black</material> </gazebo>
  <gazebo reference="mount12">   <material>Gazebo/Black</material> </gazebo>

  <gazebo reference="sphere">  <material>Gazebo/Green</material>  </gazebo>
  <gazebo reference="sphere2">  <material>Gazebo/Green</material>  </gazebo>  
 



  <!-- *************************************************** -->
  <!-- ************** Gazebo Transmissions *************** -->
  <!-- *************************************************** -->

  <transmission name="trans1">
    <type>transmission_interface/SimpleTransmission</type>
    <joint name="theta1">
      <hardwareInterface>hardware_interface/EffortJointInterface</hardwareInterface>
    </joint>
    <actuator name="motor1">
      <mechanicalReduction>1</mechanicalReduction>
      <hardwareInterface>hardware_interface/EffortJointInterface</hardwareInterface>
    </actuator>
  </transmission>
  
  <transmission name="trans2">
    <type>transmission_interface/SimpleTransmission</type>
    <joint name="theta2">
      <hardwareInterface>hardware_interface/EffortJointInterface</hardwareInterface>
    </joint>
    <actuator name="motor2">
      <mechanicalReduction>1</mechanicalReduction>
      <hardwareInterface>hardware_interface/EffortJointInterface</hardwareInterface>
    </actuator>
  </transmission>
  
  <transmission name="trans3">
    <type>transmission_interface/SimpleTransmission</type>
    <joint name="theta3">
      <hardwareInterface>hardware_interface/EffortJointInterface</hardwareInterface>
    </joint>
    <actuator name="motor3">
      <mechanicalReduction>1</mechanicalReduction>
      <hardwareInterface>hardware_interface/EffortJointInterface</hardwareInterface>
    </actuator>
  </transmission>
  
  <transmission name="trans4">
    <type>transmission_interface/SimpleTransmission</type>
    <joint name="theta4">
      <hardwareInterface>hardware_interface/EffortJointInterface</hardwareInterface>
    </joint>
    <actuator name="motor4">
      <mechanicalReduction>1</mechanicalReduction>
      <hardwareInterface>hardware_interface/EffortJointInterface</hardwareInterface>
    </actuator>
  </transmission>
  
  <transmission name="trans5">
    <type>transmission_interface/SimpleTransmission</type>
    <joint name="theta5">
      <hardwareInterface>hardware_interface/EffortJointInterface</hardwareInterface>
    </joint>
    <actuator name="motor5">
      <mechanicalReduction>1</mechanicalReduction>
      <hardwareInterface>hardware_interface/EffortJointInterface</hardwareInterface>
    </actuator>
  </transmission>
  
  <transmission name="trans6">
    <type>transmission_interface/SimpleTransmission</type>
    <joint name="theta6">
      <hardwareInterface>hardware_interface/EffortJointInterface</hardwareInterface>
    </joint>
    <actuator name="motor6">
      <mechanicalReduction>1</mechanicalReduction>
      <hardwareInterface>hardware_interface/EffortJointInterface</hardwareInterface>
    </actuator>
  </transmission>
  
  <transmission name="trans7">
    <type>transmission_interface/SimpleTransmission</type>
    <joint name="theta7">
      <hardwareInterface>hardware_interface/EffortJointInterface</hardwareInterface>
    </joint>
    <actuator name="motor7">
      <mechanicalReduction>1</mechanicalReduction>
      <hardwareInterface>hardware_interface/EffortJointInterface</hardwareInterface>
    </actuator>
  </transmission>

  <transmission name="trans8">
    <type>transmission_interface/SimpleTransmission</type>
    <joint name="theta8">
      <hardwareInterface>hardware_interface/EffortJointInterface</hardwareInterface>
    </joint>
    <actuator name="motor8">
      <mechanicalReduction>1</mechanicalReduction>
      <hardwareInterface>hardware_interface/EffortJointInterface</hardwareInterface>
    </actuator>
  </transmission>

  <transmission name="trans9">
    <type>transmission_interface/SimpleTransmission</type>
    <joint name="theta9">
      <hardwareInterface>hardware_interface/EffortJointInterface</hardwareInterface>
    </joint>
    <actuator name="motor9">
      <mechanicalReduction>1</mechanicalReduction>
      <hardwareInterface>hardware_interface/EffortJointInterface</hardwareInterface>
    </actuator>
  </transmission>

  <transmission name="trans10">
    <type>transmission_interface/SimpleTransmission</type>
    <joint name="theta10">
      <hardwareInterface>hardware_interface/EffortJointInterface</hardwareInterface>
    </joint>
    <actuator name="motor10">
      <mechanicalReduction>1</mechanicalReduction>
      <hardwareInterface>hardware_interface/EffortJointInterface</hardwareInterface>
    </actuator>
  </transmission>

  <transmission name="trans11">
    <type>transmission_interface/SimpleTransmission</type>
    <joint name="theta11">
      <hardwareInterface>hardware_interface/EffortJointInterface</hardwareInterface>
    </joint>
    <actuator name="motor11">
      <mechanicalReduction>1</mechanicalReduction>
      <hardwareInterface>hardware_interface/EffortJointInterface</hardwareInterface>
    </actuator>
  </transmission>

  <transmission name="trans12">
    <type>transmission_interface/SimpleTransmission</type>
    <joint name="theta12">
      <hardwareInterface>hardware_interface/EffortJointInterface</hardwareInterface>
    </joint>
    <actuator name="motor12">
      <mechanicalReduction>1</mechanicalReduction>
      <hardwareInterface>hardware_interface/EffortJointInterface</hardwareInterface>
    </actuator>
  </transmission>

  
  <!-- *************************************************** -->
  <!-- *************** Gazebo Controllers **************** -->
  <!-- *************************************************** -->

  <gazebo>
    <plugin name="gazebo_ros_control" filename="libgazebo_ros_control.so">
      <robotNamespace>/twelvedof</robotNamespace>
      <robotSimType>gazebo_ros_control/DefaultRobotHWSim</robotSimType>
    </plugin>
  </gazebo>



</robot>
